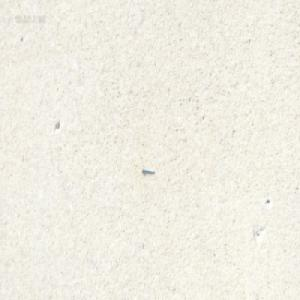Nail: (141, 165, 154, 173)
